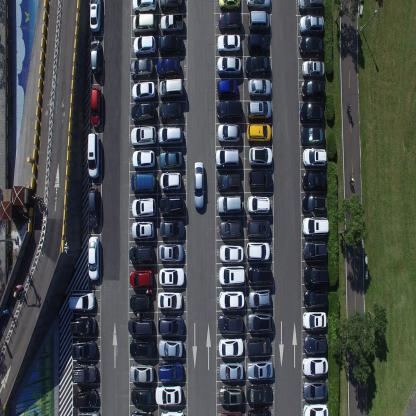car: (86, 132, 100, 180), (159, 193, 184, 217), (158, 313, 184, 336), (71, 361, 97, 384), (214, 146, 240, 169), (245, 311, 272, 333), (130, 172, 157, 194), (301, 216, 329, 237), (130, 241, 154, 265), (131, 196, 156, 219), (158, 360, 183, 383), (159, 78, 184, 101), (248, 168, 273, 191), (303, 334, 328, 357), (158, 241, 184, 263), (159, 218, 185, 240), (218, 337, 244, 359), (303, 266, 329, 288), (131, 126, 157, 148), (71, 339, 97, 361), (298, 14, 324, 36), (302, 378, 328, 400), (89, 85, 102, 129), (218, 264, 245, 285), (246, 360, 273, 381), (217, 312, 242, 334), (131, 102, 156, 124), (158, 125, 183, 147), (247, 100, 272, 122), (218, 289, 244, 310), (216, 193, 242, 214), (216, 100, 242, 121), (244, 56, 270, 77), (302, 148, 328, 169), (158, 35, 184, 56), (300, 102, 326, 123), (218, 384, 244, 405), (158, 266, 185, 286), (88, 236, 100, 281), (69, 316, 96, 336), (246, 383, 273, 403), (155, 384, 182, 404), (68, 292, 96, 311), (133, 11, 156, 34), (131, 219, 155, 241), (132, 80, 156, 102), (247, 123, 271, 145), (248, 78, 272, 100), (217, 33, 241, 55), (160, 11, 184, 33), (302, 170, 326, 192), (129, 362, 154, 383), (246, 336, 271, 357), (219, 243, 244, 264), (298, 35, 323, 56), (301, 193, 326, 214), (129, 338, 155, 358), (218, 362, 244, 382), (245, 241, 271, 261), (302, 311, 328, 331), (73, 387, 99, 407), (301, 357, 328, 376), (247, 193, 270, 215), (130, 58, 153, 80), (134, 34, 156, 57), (247, 32, 270, 54), (302, 57, 325, 79), (158, 150, 182, 171), (128, 268, 152, 289), (158, 338, 182, 359), (156, 57, 180, 78), (217, 55, 241, 76), (88, 186, 100, 228), (157, 290, 182, 310), (248, 147, 273, 167), (303, 291, 328, 311), (300, 126, 325, 146), (247, 266, 273, 285), (302, 242, 328, 261), (194, 161, 204, 210), (217, 123, 240, 144), (159, 102, 182, 123), (128, 316, 152, 336), (246, 218, 270, 238), (217, 172, 241, 192), (218, 11, 242, 31), (301, 80, 325, 100), (130, 386, 155, 405), (220, 219, 242, 240), (217, 78, 239, 99), (248, 288, 271, 308), (247, 10, 270, 30), (132, 151, 156, 170), (90, 38, 102, 76), (160, 171, 181, 192), (129, 292, 151, 311), (89, 0, 101, 32), (297, 0, 324, 13), (302, 403, 328, 415), (132, 0, 156, 12), (159, 0, 184, 11), (247, 405, 272, 415), (246, 0, 271, 9), (218, 0, 241, 9), (217, 409, 243, 415), (129, 409, 154, 415), (160, 410, 185, 416), (76, 410, 100, 416)
